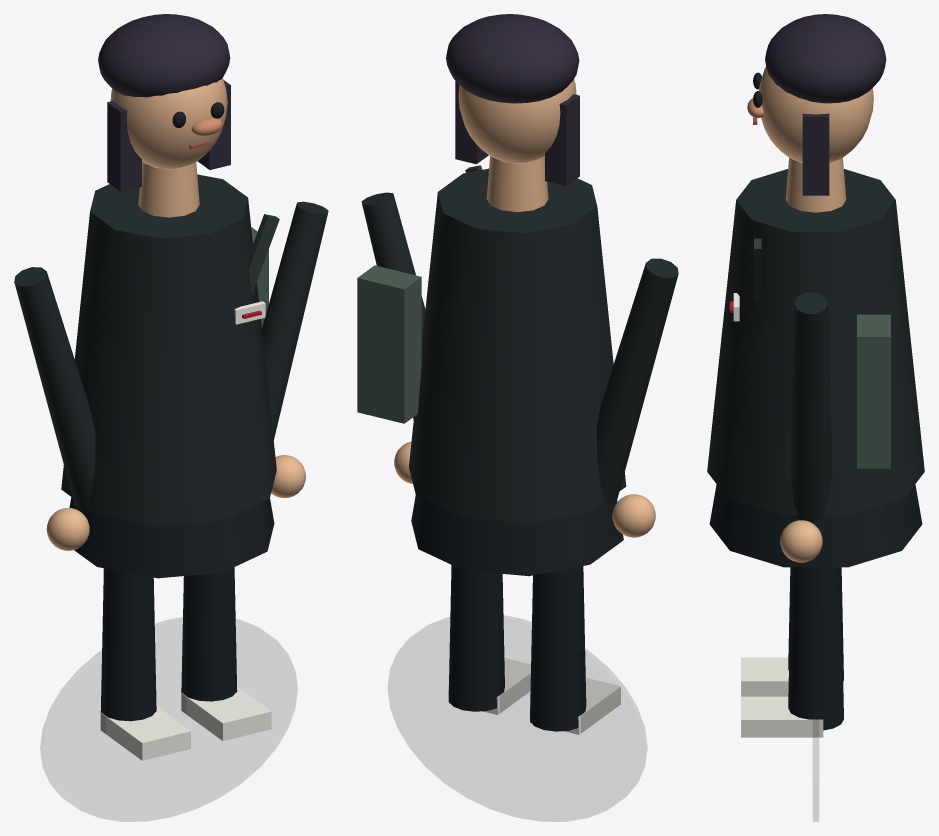
File: player_female_black.glb
3 views of the same model, side by side, from view 1: azimuth 30°, elevation 25°; view 2: azimuth 150°, elevation 25°; view 3: azimuth 270°, elevation 25° (orthographic). The views are drawn at different scales.
Parts seen in each view (by area): view 1: torso, contact_shadow, skirt, hair_cap, arm_-0.255, leg_-0.095, leg_0.095, arm_0.255, head, shoe_-0.095, shoe_0.095, neck (+6 smaller); view 2: torso, contact_shadow, skirt, shoulder_bag, hair_cap, arm_-0.255, leg_-0.095, leg_0.095, head, neck, arm_0.255, side_hair_-0.105 (+4 smaller); view 3: torso, skirt, hair_cap, arm_0.255, leg_0.095, shoulder_bag, head, shoe_0.095, side_hair_0.105, neck, shoe_-0.095, hand_0.255 (+2 smaller).
Part boxes in pixels (x1,y1,x2,y2): torso: [61, 174, 276, 525]; contact_shadow: [40, 617, 297, 821]; skirt: [69, 497, 274, 578]; hair_cap: [98, 14, 230, 97]; arm_-0.255: [14, 267, 95, 511]; leg_-0.095: [100, 568, 156, 721]; leg_0.095: [181, 567, 237, 701]; arm_0.255: [262, 201, 328, 440]; head: [110, 78, 227, 168]; shoe_-0.095: [100, 706, 190, 760]; shoe_0.095: [181, 686, 271, 740]; neck: [138, 162, 199, 217]; torso: [409, 168, 626, 523]; contact_shadow: [388, 615, 646, 821]; skirt: [411, 495, 623, 576]; shoulder_bag: [357, 265, 421, 423]; hair_cap: [446, 14, 579, 103]; arm_-0.255: [596, 258, 678, 505]; leg_-0.095: [530, 566, 586, 731]; leg_0.095: [448, 565, 504, 711]; head: [458, 79, 576, 163]; neck: [486, 156, 548, 212]; arm_0.255: [361, 192, 425, 419]; side_hair_-0.105: [545, 94, 579, 186]; torso: [707, 169, 924, 515]; skirt: [709, 484, 922, 567]; hair_cap: [765, 14, 886, 103]; arm_0.255: [790, 292, 831, 521]; leg_0.095: [788, 567, 843, 730]; shoulder_bag: [857, 314, 890, 468]; head: [759, 67, 873, 162]; shoe_0.095: [741, 696, 823, 737]; side_hair_0.105: [802, 113, 829, 195]; neck: [785, 157, 846, 212]; shoe_-0.095: [741, 657, 788, 696]; hand_0.255: [780, 520, 822, 562].
Size of the model in its own units: 0.7142 by 1.74 by 0.441.
